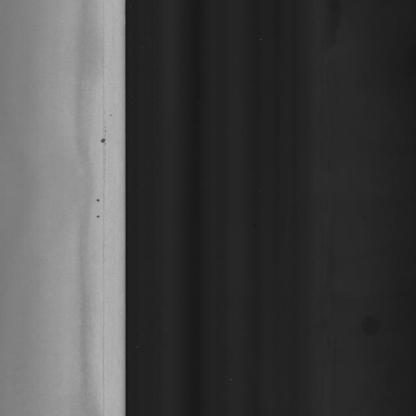oil_spot: (94, 191, 103, 225), (98, 132, 108, 145)
